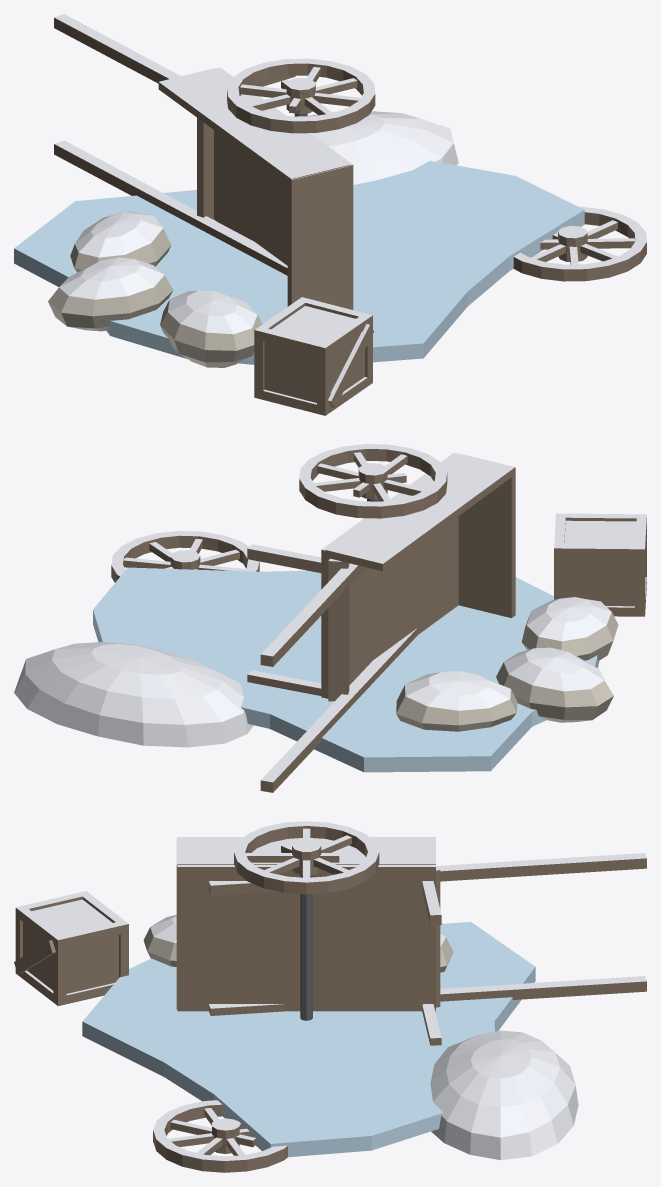
File: PR_Carrinho_Quebrado.fbx
The picture shows the model from 3 angles, top to bottom: view 1: azimuth 30°, elevation 25°; view 2: azimuth 150°, elevation 25°; view 3: azimuth 270°, elevation 25°; orthographic projection. The views are drawn at different scales.
Parts seen in each view (by area): view 1: PR_Carrinho_Quebrado; view 2: PR_Carrinho_Quebrado; view 3: PR_Carrinho_Quebrado.
Part boxes in pixels (<box>): PR_Carrinho_Quebrado: <box>14,14,646,415</box>; PR_Carrinho_Quebrado: <box>14,444,646,792</box>; PR_Carrinho_Quebrado: <box>14,821,646,1172</box>.
Size of the model in its own units: 3.73 by 1.34 by 3.92.
